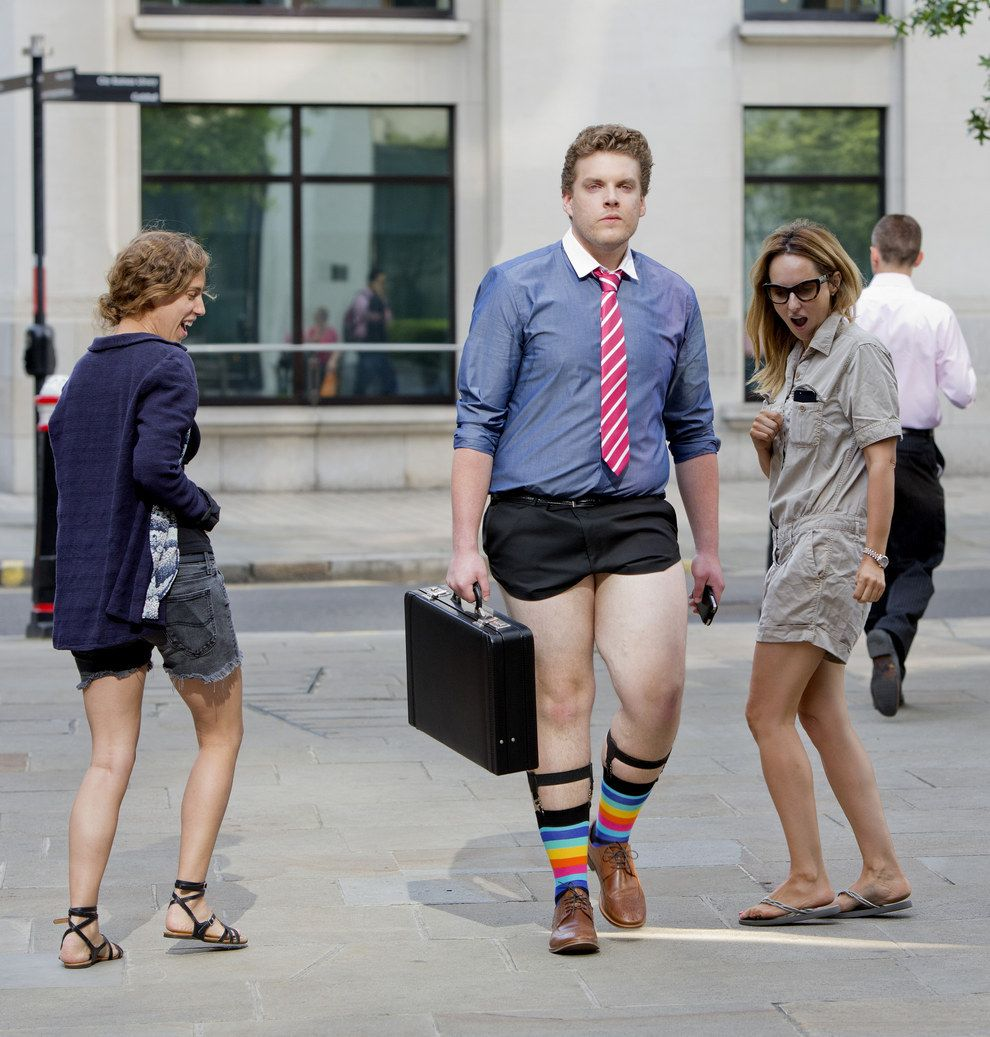Person: (446, 124, 723, 956), (49, 232, 251, 969), (742, 218, 905, 923)
